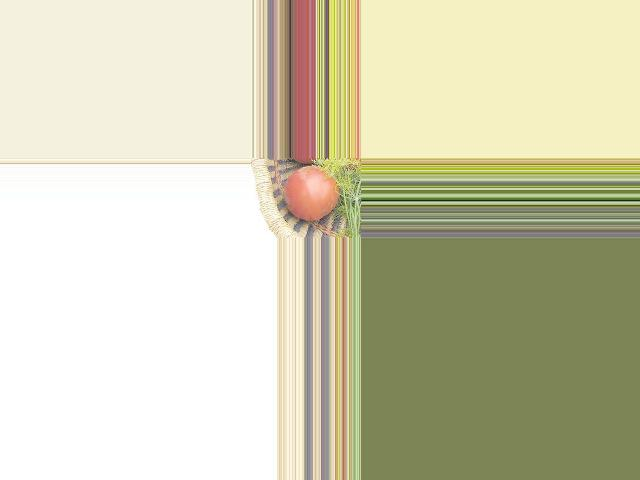tomato: (284, 166, 340, 220)
